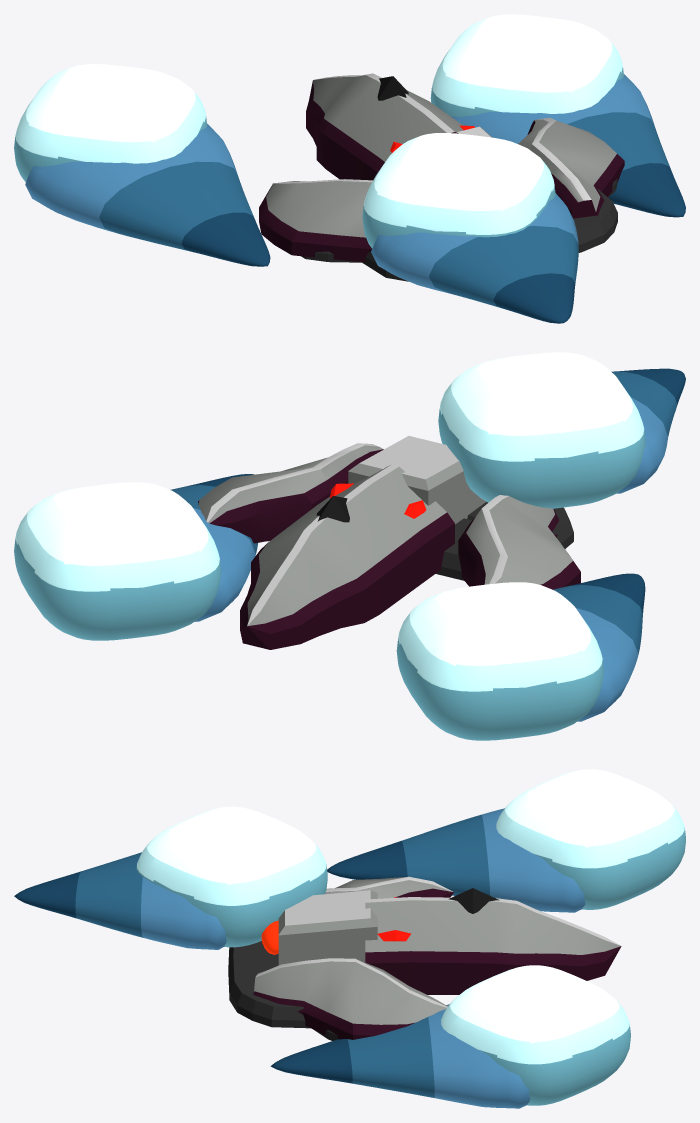
File: pu_pearl_wind.glb
3 renders of one model, top to bottom at view 1: azimuth 30°, elevation 25°; view 2: azimuth 150°, elevation 25°; view 3: azimuth 270°, elevation 25°, orthographic. The views are drawn at different scales.
Parts seen in each view (by area): view 1: tail0, pearl2, pearl0, pearl1, tail2, spire, tail1, blade_left, blade_right, base_rear, canopy; view 2: pearl0, pearl1, pearl2, spire, blade_left, blade_right, tail0, block, tail2, tail1, base_front, base_rear (+1 smaller); view 3: pearl1, pearl0, spire, pearl2, tail1, tail0, blade_right, tail2, block, base_rear, blade_left, canopy.
Part boxes in pixels (x1=…): tail0: x1=25, y1=123, x2=270, y2=266; pearl2: x1=362, y1=133, x2=555, y2=248; pearl0: x1=14, y1=64, x2=207, y2=182; pearl1: x1=430, y1=14, x2=623, y2=116; tail2: x1=371, y1=193, x2=578, y2=323; spire: x1=306, y1=73, x2=463, y2=180; tail1: x1=451, y1=74, x2=685, y2=217; blade_left: x1=259, y1=179, x2=372, y2=262; blade_right: x1=518, y1=117, x2=624, y2=218; base_rear: x1=362, y1=189, x2=617, y2=281; canopy: x1=377, y1=76, x2=408, y2=100; pearl0: x1=396, y1=582, x2=603, y2=740; pearl1: x1=14, y1=482, x2=220, y2=640; pearl2: x1=438, y1=352, x2=645, y2=508; spire: x1=240, y1=464, x2=454, y2=649; blade_left: x1=458, y1=495, x2=580, y2=589; blade_right: x1=198, y1=443, x2=383, y2=543; tail0: x1=553, y1=573, x2=645, y2=721; block: x1=348, y1=436, x2=485, y2=524; tail2: x1=611, y1=368, x2=685, y2=493; tail1: x1=170, y1=474, x2=257, y2=621; base_front: x1=435, y1=518, x2=471, y2=580; base_rear: x1=467, y1=501, x2=573, y2=548; pearl1: x1=441, y1=965, x2=630, y2=1105; pearl0: x1=496, y1=769, x2=685, y2=909; spire: x1=365, y1=897, x2=621, y2=994; pearl2: x1=136, y1=806, x2=327, y2=947; tail1: x1=270, y1=1004, x2=530, y2=1108; tail0: x1=327, y1=808, x2=585, y2=912; blade_right: x1=253, y1=958, x2=447, y2=1039; tail2: x1=14, y1=852, x2=226, y2=949; block: x1=278, y1=890, x2=377, y2=965; base_rear: x1=228, y1=941, x2=310, y2=1028; blade_left: x1=325, y1=876, x2=453, y2=898; canopy: x1=448, y1=888, x2=499, y2=913.
Size of the model in its own units: 22.37 by 6.55 by 24.38.
